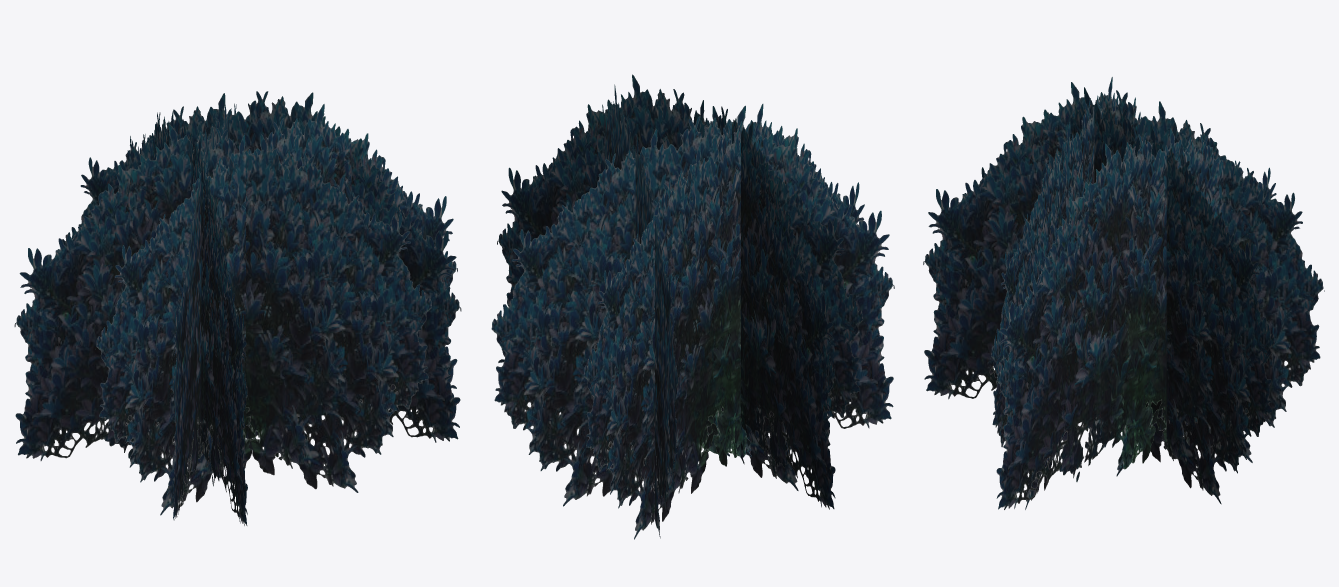
File: bush.glb
The picture shows the model from 3 angles, left to right: view 1: azimuth 30°, elevation 25°; view 2: azimuth 150°, elevation 25°; view 3: azimuth 270°, elevation 25°; orthographic projection. The views are drawn at different scales.
Visible parts, largest first — view 1: Plane; view 2: Plane; view 3: Plane.
Boxes of the visible parts, x1=… form: Plane: x1=14, y1=91, x2=461, y2=525; Plane: x1=491, y1=74, x2=894, y2=539; Plane: x1=923, y1=77, x2=1324, y2=509.
Size of the model in its own units: 2.14 by 2 by 1.95.
1 material, 1 textured.
